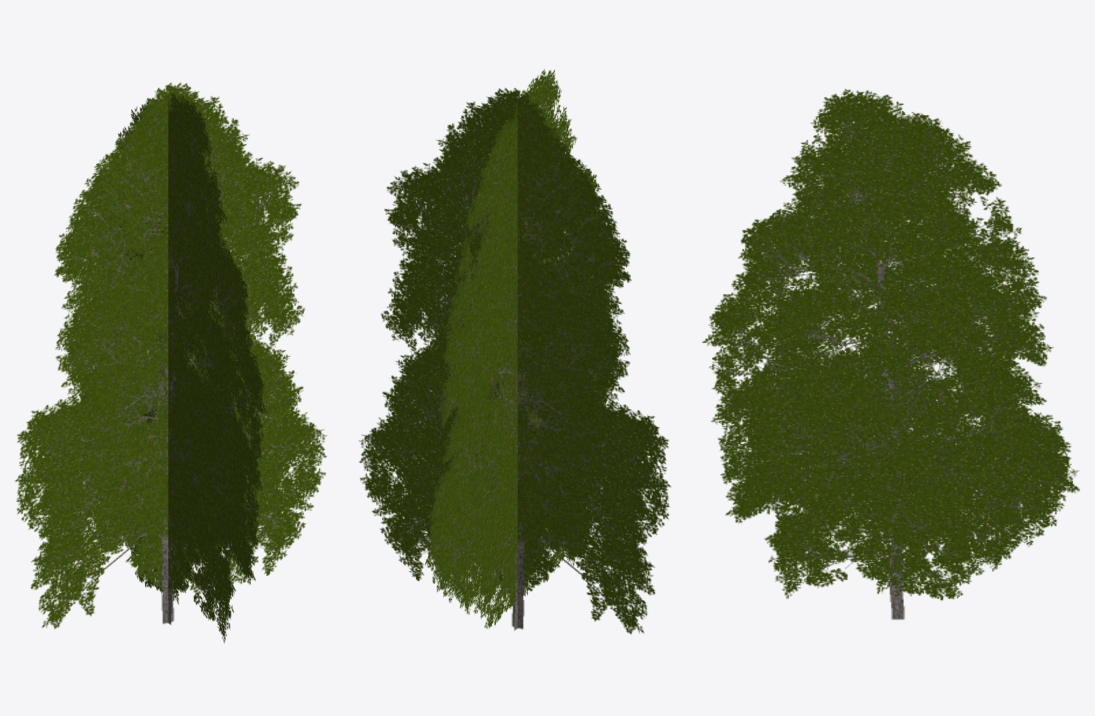
File: SassafrasAlbidum.glb
3 views of the same model, side by side, from view 1: azimuth 30°, elevation 25°; view 2: azimuth 150°, elevation 25°; view 3: azimuth 270°, elevation 25° (orthographic).
Visible parts, largest first — view 1: mesh__mat_billboard_18; view 2: mesh__mat_billboard_18; view 3: mesh__mat_billboard_18.
Boxes of the visible parts, bbox=[...] form: mesh__mat_billboard_18: bbox=[15, 82, 326, 642]; mesh__mat_billboard_18: bbox=[359, 69, 670, 634]; mesh__mat_billboard_18: bbox=[702, 89, 1079, 619].
Bounding box in the file's own units: 9.41 × 15.6 × 10.01.
1 material, 1 textured.
